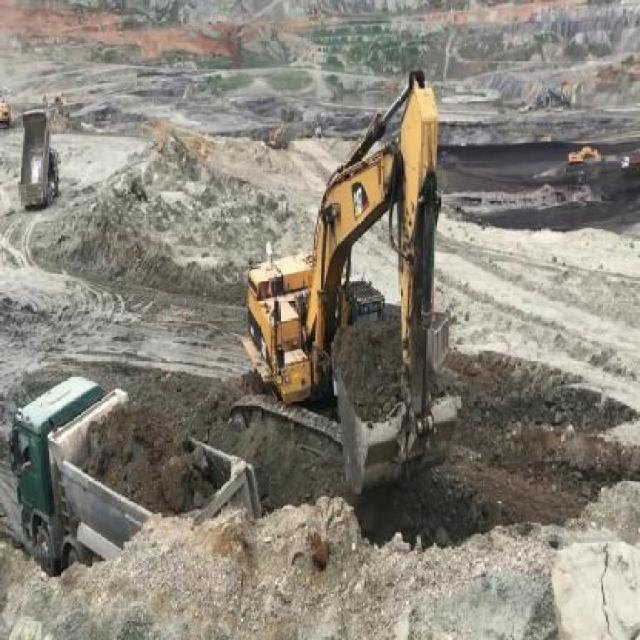Dump Truck: (9, 391, 256, 577), (18, 102, 56, 210)
Excavator: (232, 53, 458, 512)
